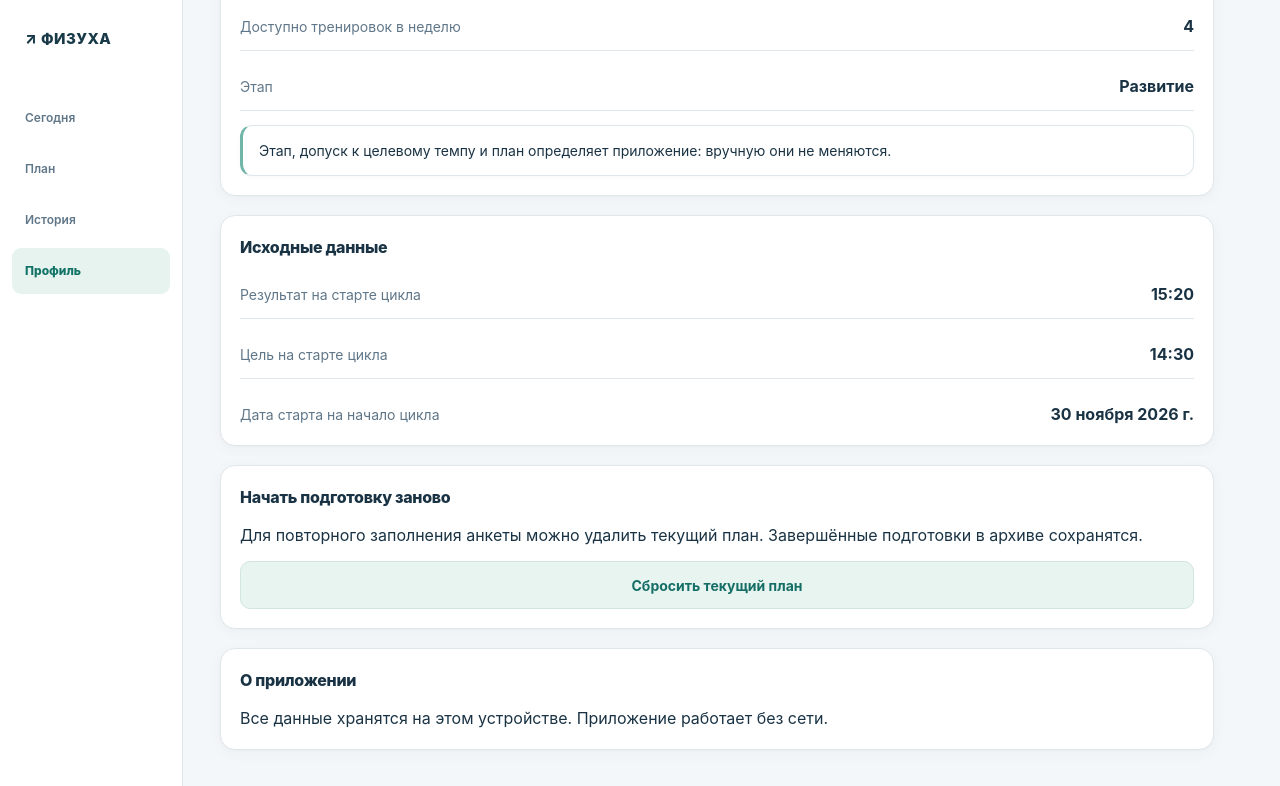
Test: restart from Profile › a stale tab gets an error and never deletes a changed plan
(page scrolled)
Click the button "Сбросить текущий план" at [717, 585], box x1=240 y1=561 x2=1194 y2=609
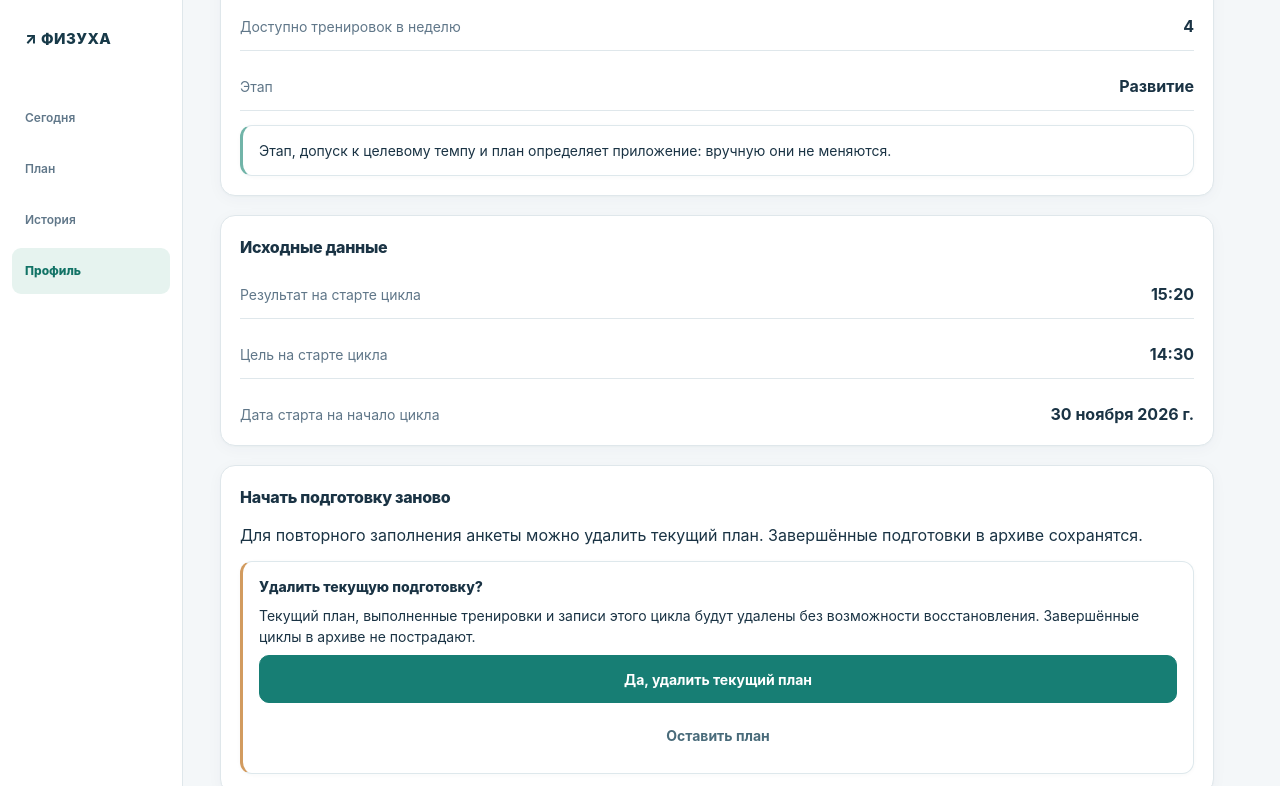
Click the button "Да, удалить текущий план" at [718, 679], box x1=259 y1=655 x2=1177 y2=703
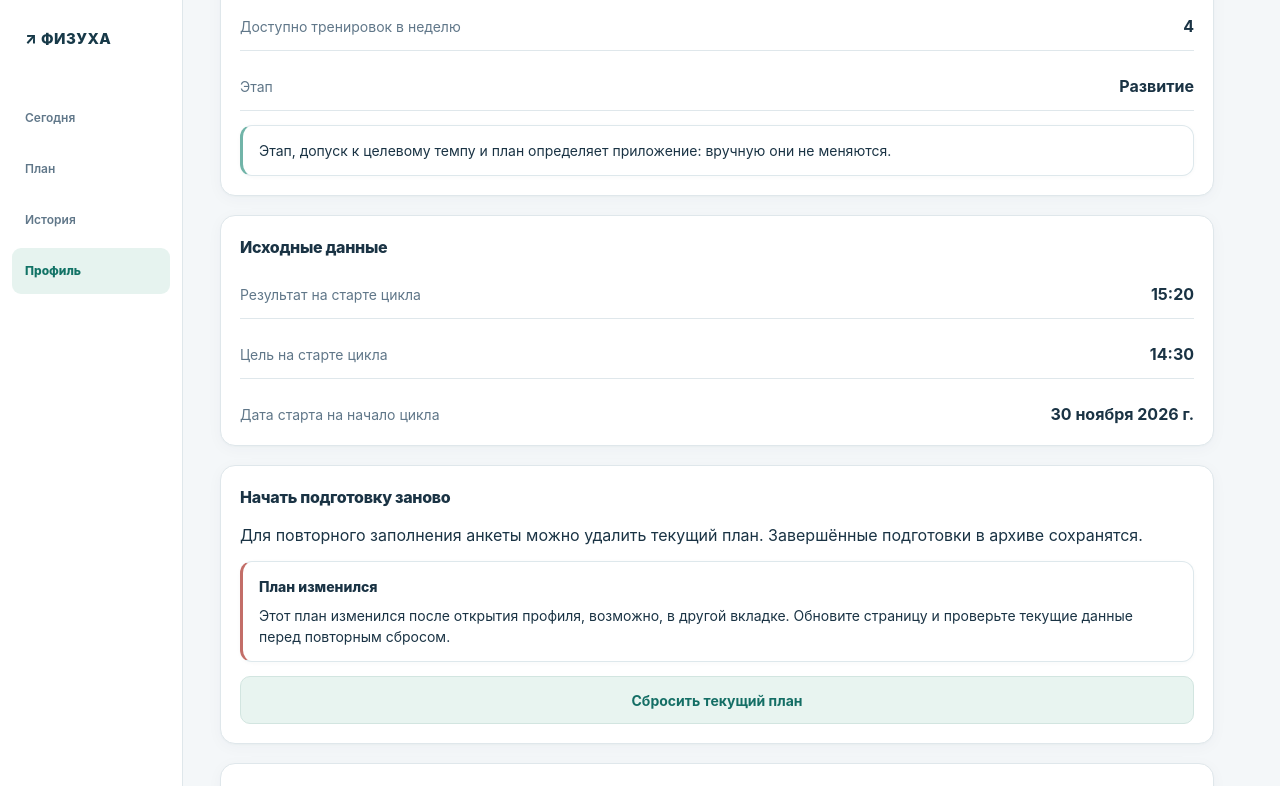
Check: the text "План изменился" is shown, box x1=259 y1=578 x2=378 y2=595
